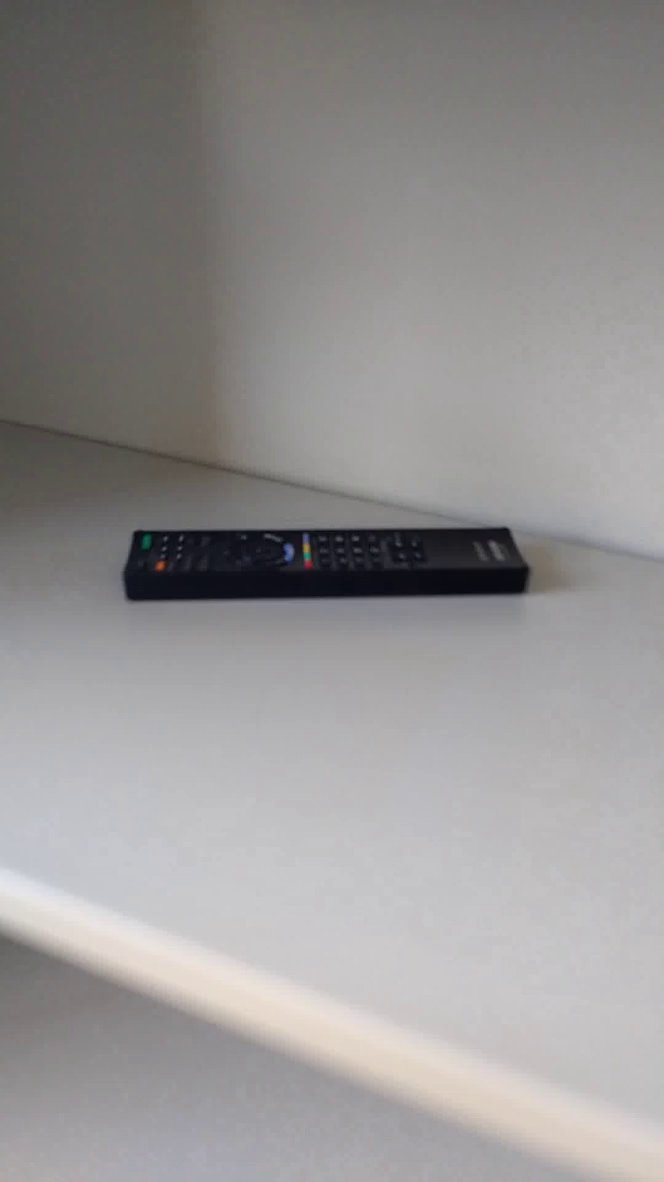remote: (105, 497, 542, 648)
